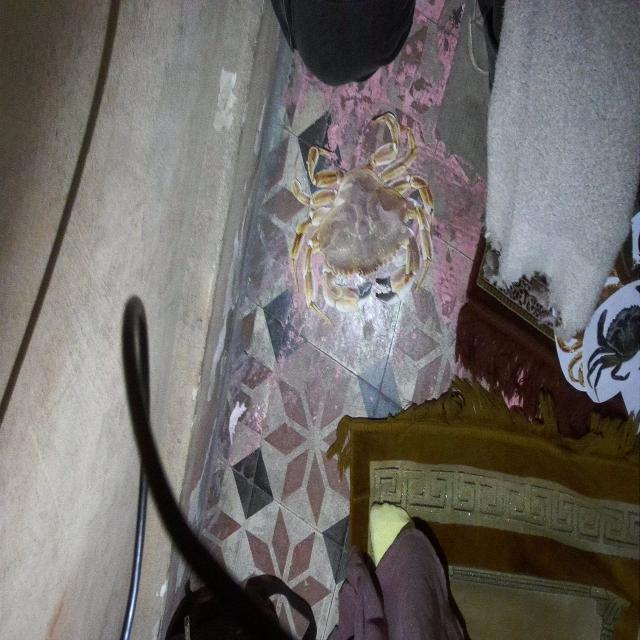European_Green_Crab: (589, 298, 640, 395)
